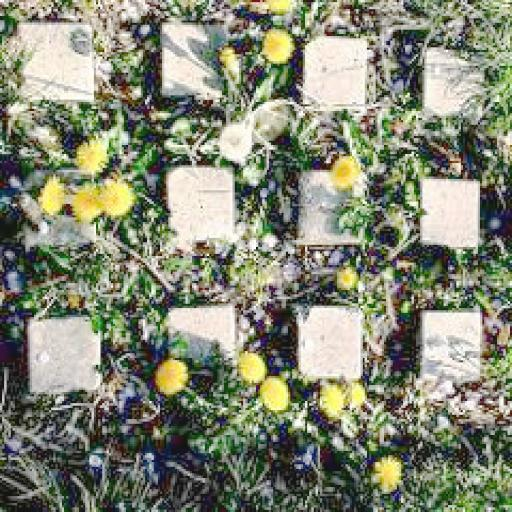dandelion: (158, 354, 188, 394), (100, 181, 134, 215), (79, 136, 111, 172), (70, 186, 102, 222), (330, 154, 360, 188), (260, 376, 288, 410), (234, 353, 264, 383), (41, 179, 66, 215), (318, 385, 343, 419), (376, 456, 401, 490), (263, 30, 290, 61)
